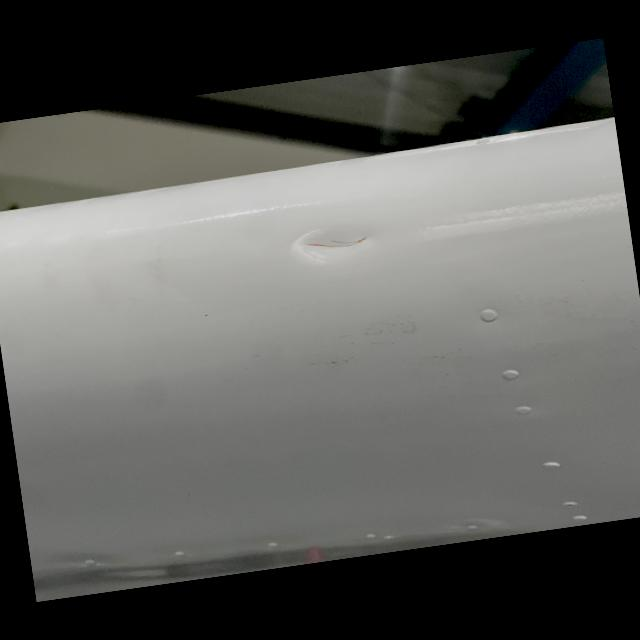dent: (272, 210, 398, 270)
